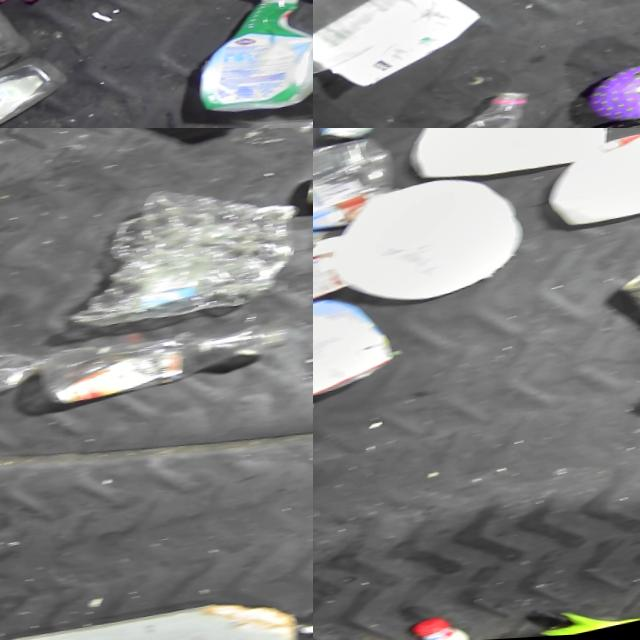can: (609, 260, 640, 343), (313, 214, 338, 292)
milk_jug: (329, 166, 532, 319), (401, 128, 618, 198), (540, 128, 640, 240)
non_white_jug: (313, 262, 406, 418)
plastic_bottle: (80, 173, 306, 332), (53, 309, 303, 415), (313, 130, 400, 243), (378, 85, 544, 128), (0, 337, 49, 424)
